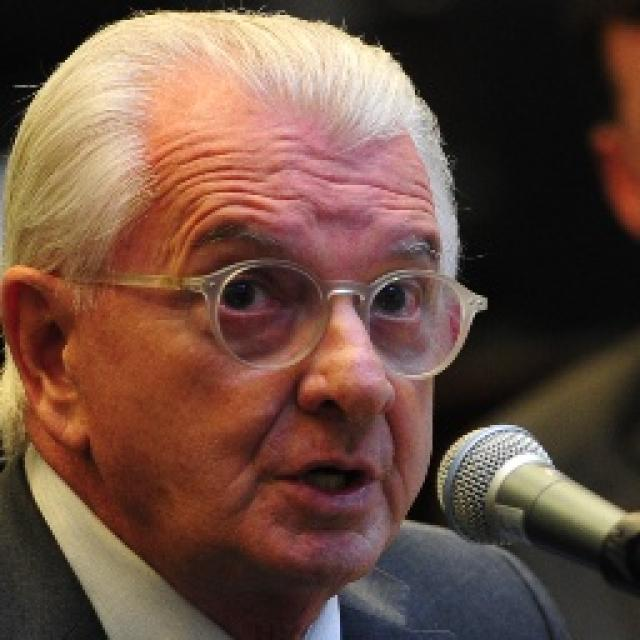earlobe: (44, 405, 92, 456)
eye: (207, 272, 281, 323), (359, 278, 428, 325)
nose: (295, 400, 384, 451)
wholeear: (0, 268, 88, 450)
